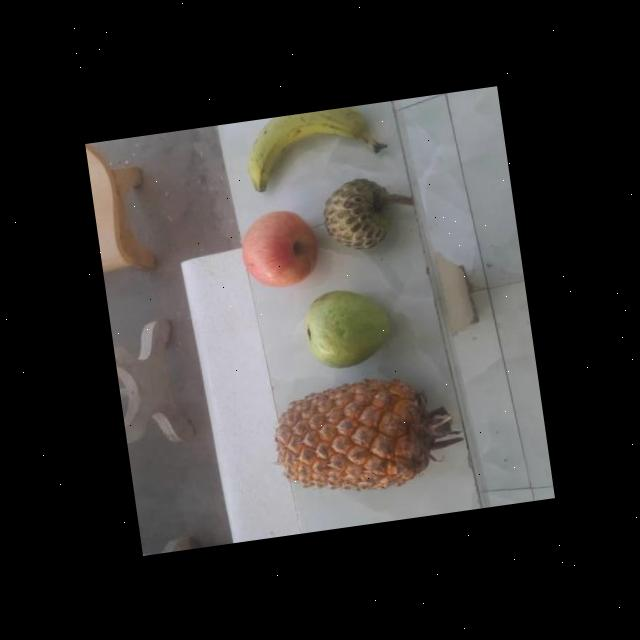Sakya fruit: (320, 172, 407, 255)
apple: (237, 203, 324, 294)
banana: (244, 102, 386, 197)
guava: (300, 286, 394, 376)
pineapple: (268, 372, 441, 503)
